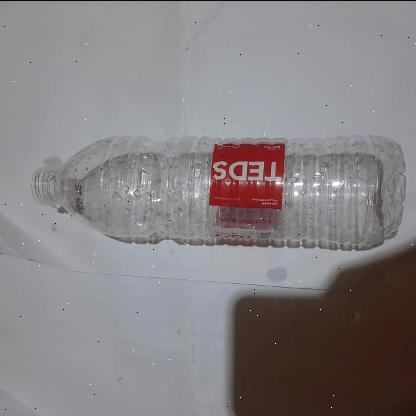Plastic Bottle: (0, 113, 416, 304)
